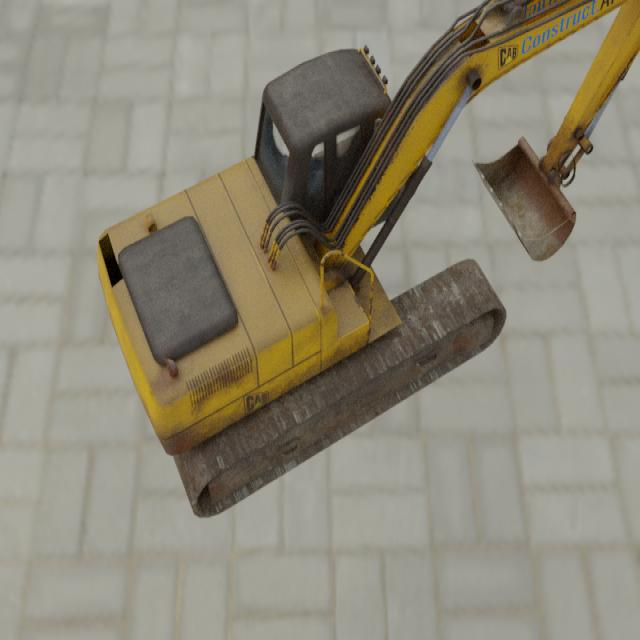excavator: (96, 0, 640, 519)
